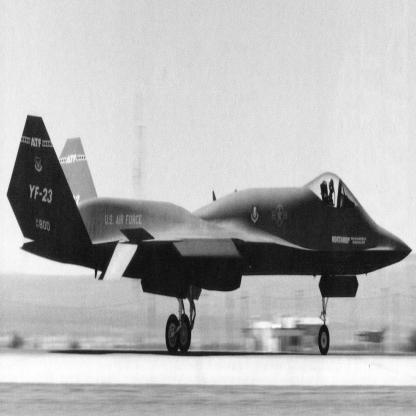YF23: (7, 116, 413, 356)
